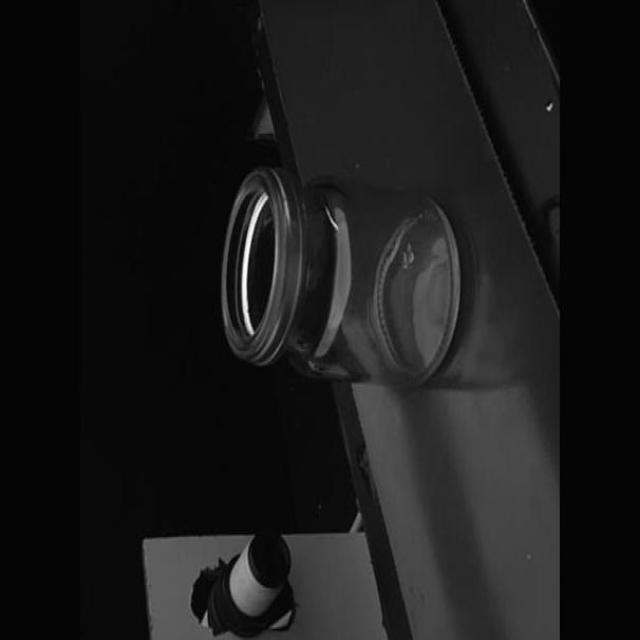defect: (322, 204, 344, 230)
glass: (222, 166, 467, 388)
